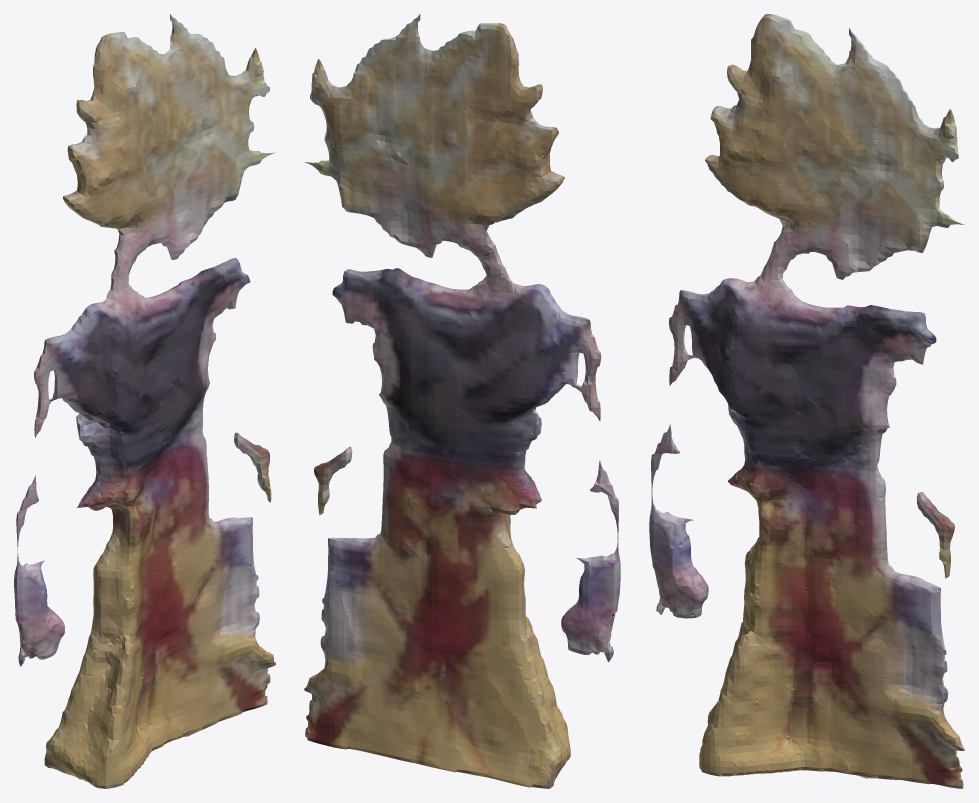
The picture shows the model from 3 angles, left to right: view 1: azimuth 30°, elevation 25°; view 2: azimuth 150°, elevation 25°; view 3: azimuth 330°, elevation 25°; orthographic projection. The views are drawn at different scales.
Parts seen in each view (by area): view 1: model.glb; view 2: model.glb; view 3: model.glb.
Boxes of the visible parts, left/top/right/bottom form: model.glb: left=14, top=14, right=275, bottom=788; model.glb: left=304, top=14, right=620, bottom=788; model.glb: left=649, top=14, right=964, bottom=788.
Size of the model in its own units: 0.4076 by 1 by 0.1306.
